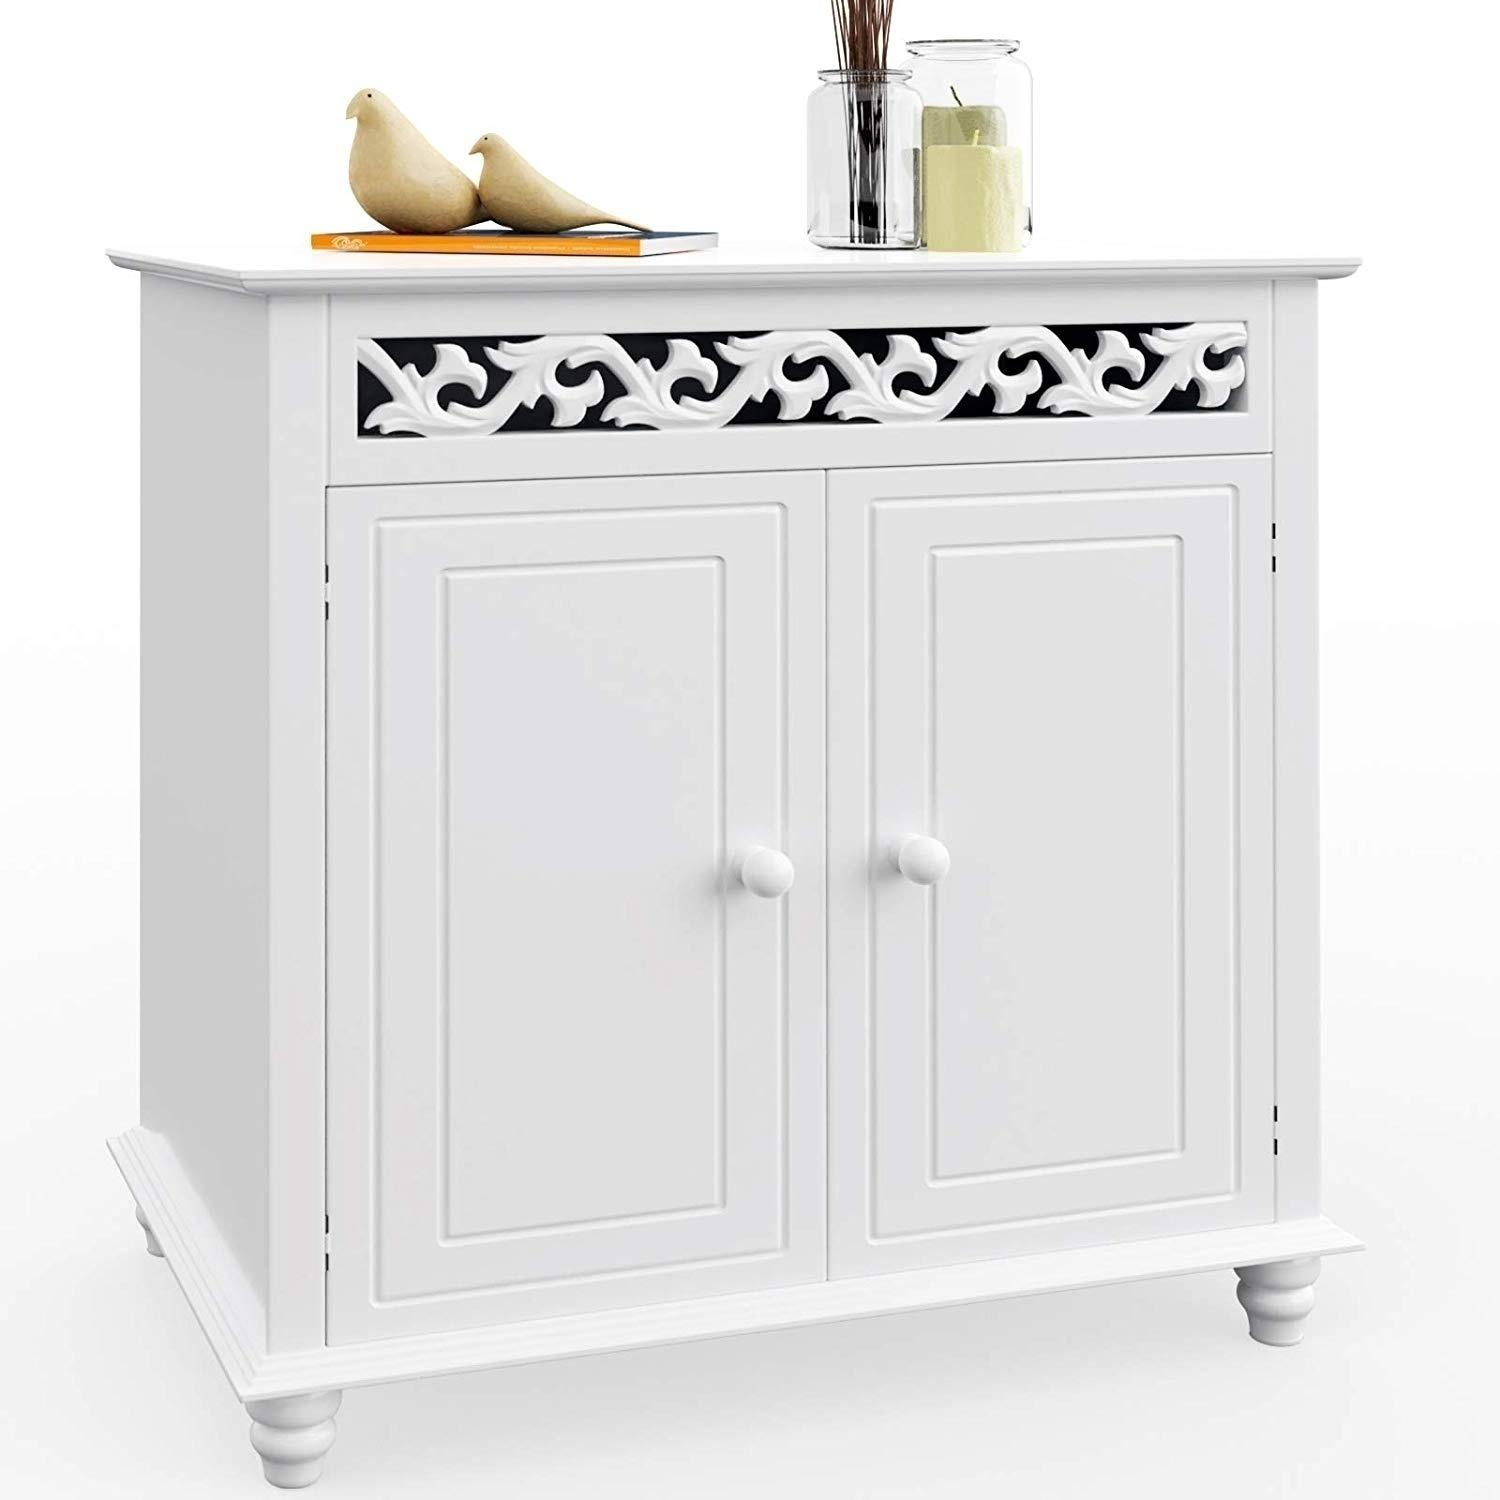cabinet_door: (341, 514, 816, 1301), (846, 477, 1236, 1213)
handle: (887, 819, 953, 909), (734, 834, 794, 918)
